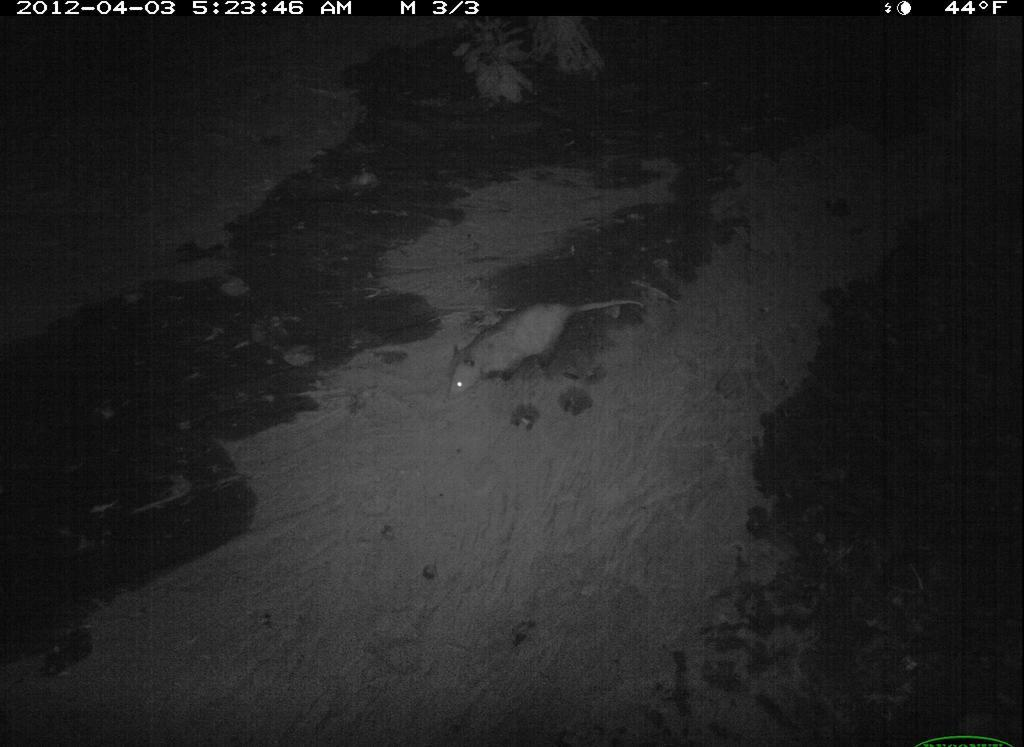opossum: (435, 284, 670, 437)
